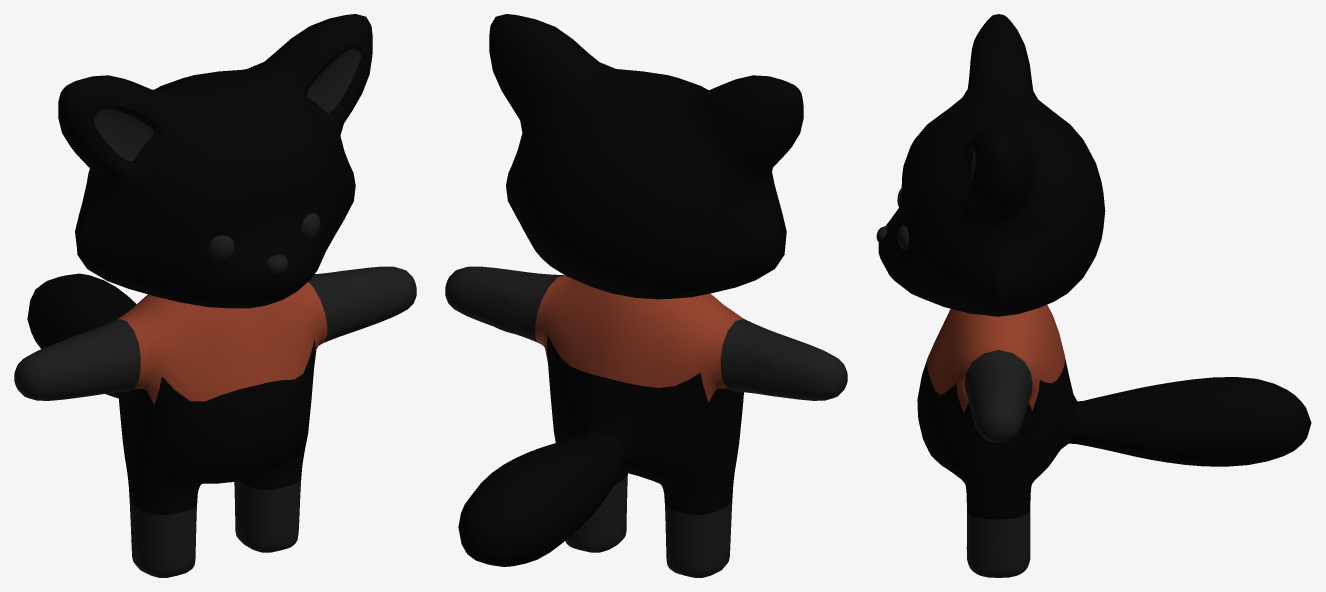
File: RedPanda_Character.glb
The picture shows the model from 3 angles, left to right: view 1: azimuth 30°, elevation 25°; view 2: azimuth 150°, elevation 25°; view 3: azimuth 270°, elevation 25°; orthographic projection. The views are drawn at different scales.
Visible parts, largest first — view 1: Head, Body, Eyes; view 2: Body, Head; view 3: Body, Head.
Boxes of the visible parts, left/top/right/bottom form: Head: left=58, top=14, right=372, bottom=308; Body: left=14, top=266, right=416, bottom=577; Eyes: left=208, top=213, right=320, bottom=260; Body: left=445, top=266, right=847, bottom=577; Head: left=489, top=14, right=803, bottom=299; Body: left=917, top=304, right=1311, bottom=577; Head: left=878, top=14, right=1105, bottom=316.
Size of the model in its own units: 3.18 by 3.9 by 3.27.
4 materials, 2 textured.
